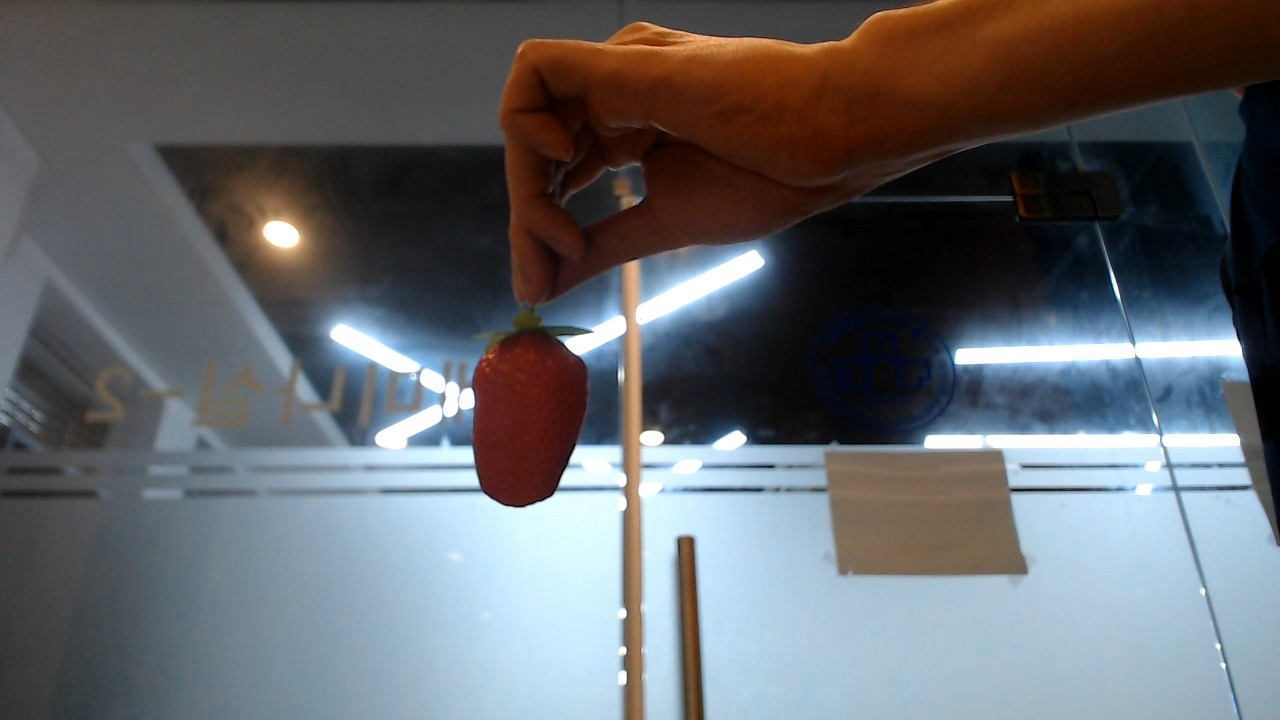strawberry: (471, 321, 587, 506)
